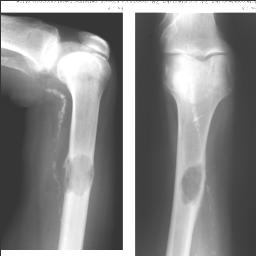cancer: (60, 153, 95, 193), (180, 160, 202, 203)
